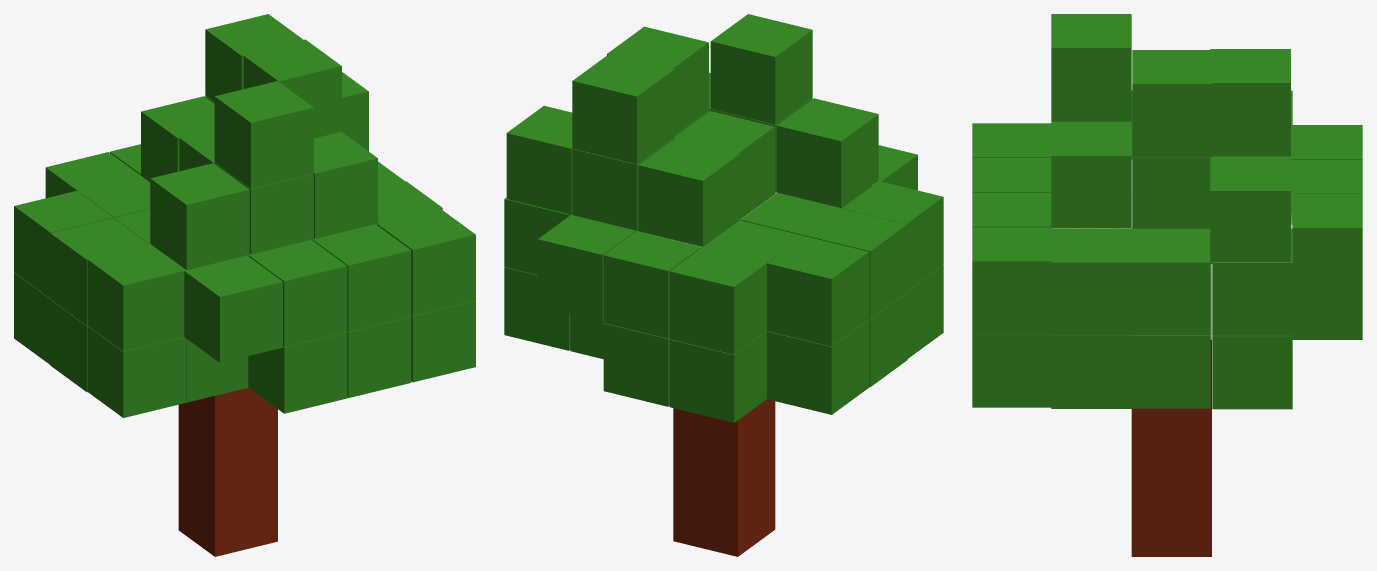
Rendered from Tree.fbx.
3 views of the same model, side by side, from view 1: azimuth 30°, elevation 25°; view 2: azimuth 150°, elevation 25°; view 3: azimuth 270°, elevation 25° (orthographic). The views are drawn at different scales.
Visible parts, largest first — view 1: Cube.091, Cube.092, Cube.101, Cube.079, Cube.072, Cube.058, Cube.102, Cube.100, Cube.099, Cube.059, Cube.104, Cube.094 (+18 smaller); view 2: Cube.091, Cube.080, Cube.095, Cube.092, Cube.096, Cube.112, Cube.071, Cube.058, Cube.059, Cube.110, Cube.113, Cube.111 (+15 smaller); view 3: Cube.076, Cube.091, Cube.102, Cube.078, Cube.108, Cube.094, Cube.095, Cube.098, Cube.110, Cube.074, Cube.077, Cube.075 (+12 smaller).
Part boxes in pixels (<box>): Cube.091: <box>214,81,313,188</box>; Cube.092: <box>150,163,249,269</box>; Cube.101: <box>184,255,282,362</box>; Cube.079: <box>87,244,185,351</box>; Cube.072: <box>87,325,186,417</box>; Cube.058: <box>178,465,277,556</box>; Cube.102: <box>377,208,475,315</box>; Cube.100: <box>248,240,347,347</box>; Cube.099: <box>312,224,411,331</box>; Cube.059: <box>178,403,277,490</box>; Cube.104: <box>248,332,347,413</box>; Cube.094: <box>314,131,377,238</box>; Cube.091: <box>710,14,812,124</box>; Cube.080: <box>767,236,869,346</box>; Cube.095: <box>572,53,674,164</box>; Cube.092: <box>776,98,878,208</box>; Cube.096: <box>638,138,740,247</box>; Cube.112: <box>669,244,770,354</box>; Cube.071: <box>767,320,869,414</box>; Cube.058: <box>673,462,775,556</box>; Cube.059: <box>673,399,775,489</box>; Cube.110: <box>537,214,635,322</box>; Cube.113: <box>669,331,766,422</box>; Cube.111: <box>603,230,701,338</box>; Cube.076: <box>1051,228,1131,335</box>; Cube.091: <box>1051,14,1131,120</box>; Cube.102: <box>972,227,1052,334</box>; Cube.078: <box>1131,228,1210,335</box>; Cube.108: <box>1132,50,1212,156</box>; Cube.094: <box>1051,122,1131,228</box>; Cube.095: <box>1210,49,1290,155</box>; Cube.098: <box>1210,157,1290,263</box>; Cube.110: <box>1291,194,1362,300</box>; Cube.074: <box>1212,335,1292,409</box>; Cube.077: <box>1212,229,1292,335</box>; Cube.075: <box>1051,335,1131,408</box>.
Size of the model in its own units: 1015 by 1397 by 972.
